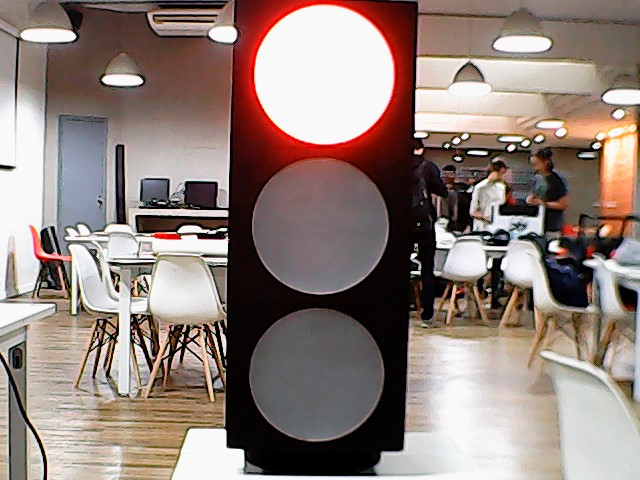vermelho: (223, 1, 431, 477)
